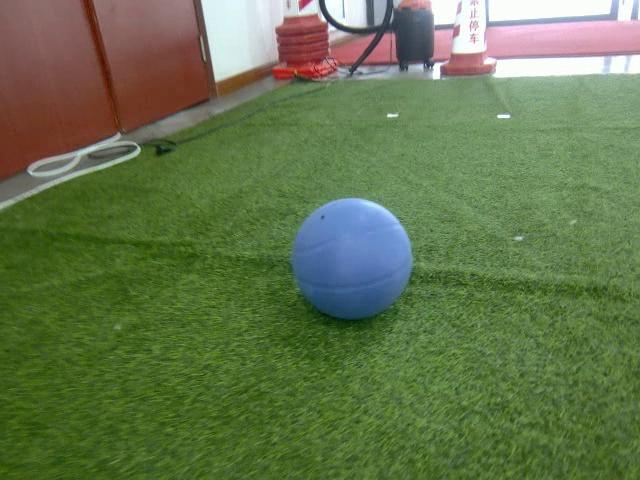blue_ball: (292, 197, 414, 320)
